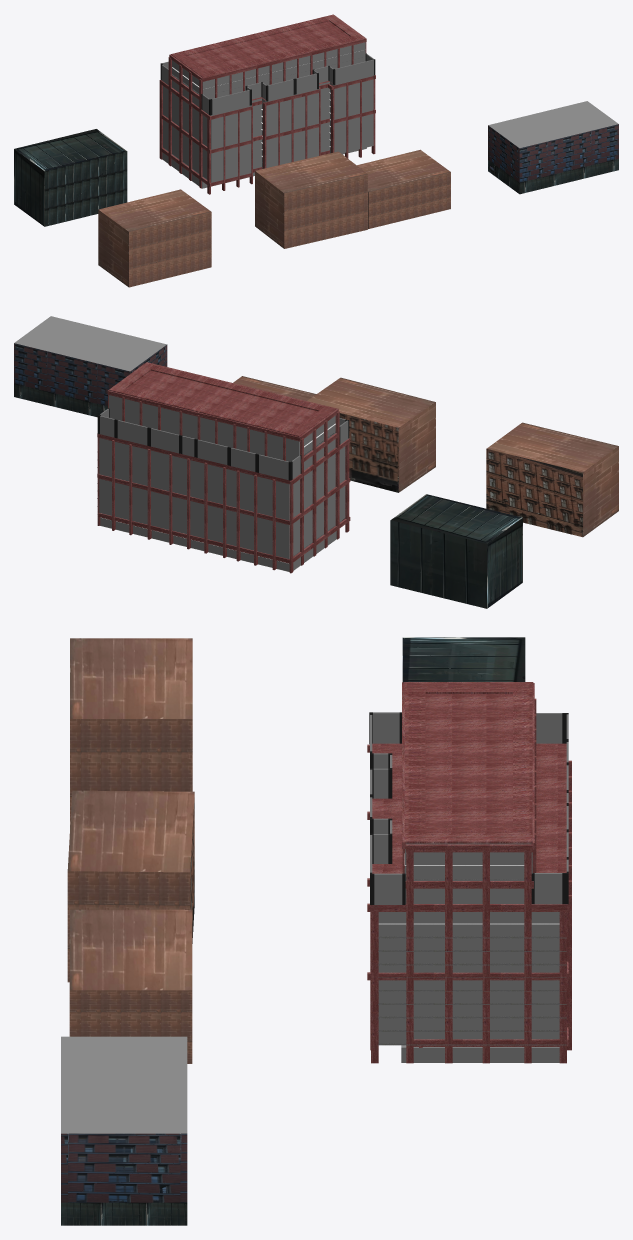
The model's file is argyleWithExtraBuildingsAndStreet.FBX.
The picture shows the model from 3 angles, top to bottom: view 1: azimuth 30°, elevation 25°; view 2: azimuth 150°, elevation 25°; view 3: azimuth 270°, elevation 25°; orthographic projection. The views are drawn at different scales.
Parts seen in each view (by area): view 1: Building, Tesco, Coop, Monkey, Coop001, Pizza, Box129, Box180, Box182, Box184, Box073, Box072 (+2 smaller); view 2: Building, Coop001, Coop, Tesco, Monkey, Bottom, Box127, Box113, Box114, Box115, Pizza, Box194 (+10 smaller); view 3: Building, Tesco, Coop, Pizza, Monkey, Coop001, Bottom, GlassBarrier (×2), Box056, Box058, Box051, Box055 (+9 smaller).
Boxes of the visible parts, left/top/right/bottom form: Building: left=163, top=14, right=373, bottom=182; Tesco: left=488, top=101, right=618, bottom=194; Coop: left=98, top=189, right=211, bottom=287; Monkey: left=255, top=151, right=367, bottom=248; Coop001: left=14, top=129, right=127, bottom=226; Pizza: left=357, top=149, right=450, bottom=228; Box129: left=202, top=38, right=366, bottom=81; Box180: left=333, top=59, right=375, bottom=84; Box182: left=210, top=89, right=251, bottom=114; Box184: left=266, top=79, right=294, bottom=101; Box073: left=168, top=57, right=171, bottom=166; Box072: left=179, top=65, right=182, bottom=173; Building: left=99, top=362, right=345, bottom=558; Coop001: left=390, top=494, right=522, bottom=608; Coop: left=486, top=422, right=618, bottom=537; Tesco: left=14, top=316, right=167, bottom=417; Monkey: left=307, top=377, right=435, bottom=492; Bottom: left=100, top=517, right=336, bottom=571; Box127: left=108, top=390, right=300, bottom=441; Box113: left=98, top=513, right=289, bottom=563; Box114: left=98, top=474, right=289, bottom=524; Box115: left=98, top=434, right=290, bottom=484; Pizza: left=233, top=376, right=316, bottom=400; Box194: left=257, top=454, right=290, bottom=480; Building: left=372, top=683, right=566, bottom=1043; Tesco: left=61, top=1036, right=187, bottom=1225; Coop: left=70, top=638, right=192, bottom=827; Pizza: left=69, top=909, right=192, bottom=1063; Monkey: left=67, top=790, right=194, bottom=982; Coop001: left=402, top=637, right=525, bottom=682; Bottom: left=401, top=1045, right=559, bottom=1062; GlassBarrier (×2): left=531, top=713, right=566, bottom=904; Box056: left=445, top=847, right=452, bottom=1063; Box058: left=524, top=847, right=531, bottom=1063; Box051: left=406, top=847, right=413, bottom=1063; Box055: left=482, top=847, right=489, bottom=1063.
Size of what is drawn, in the model's own units: 16400 by 3539 by 7421.
